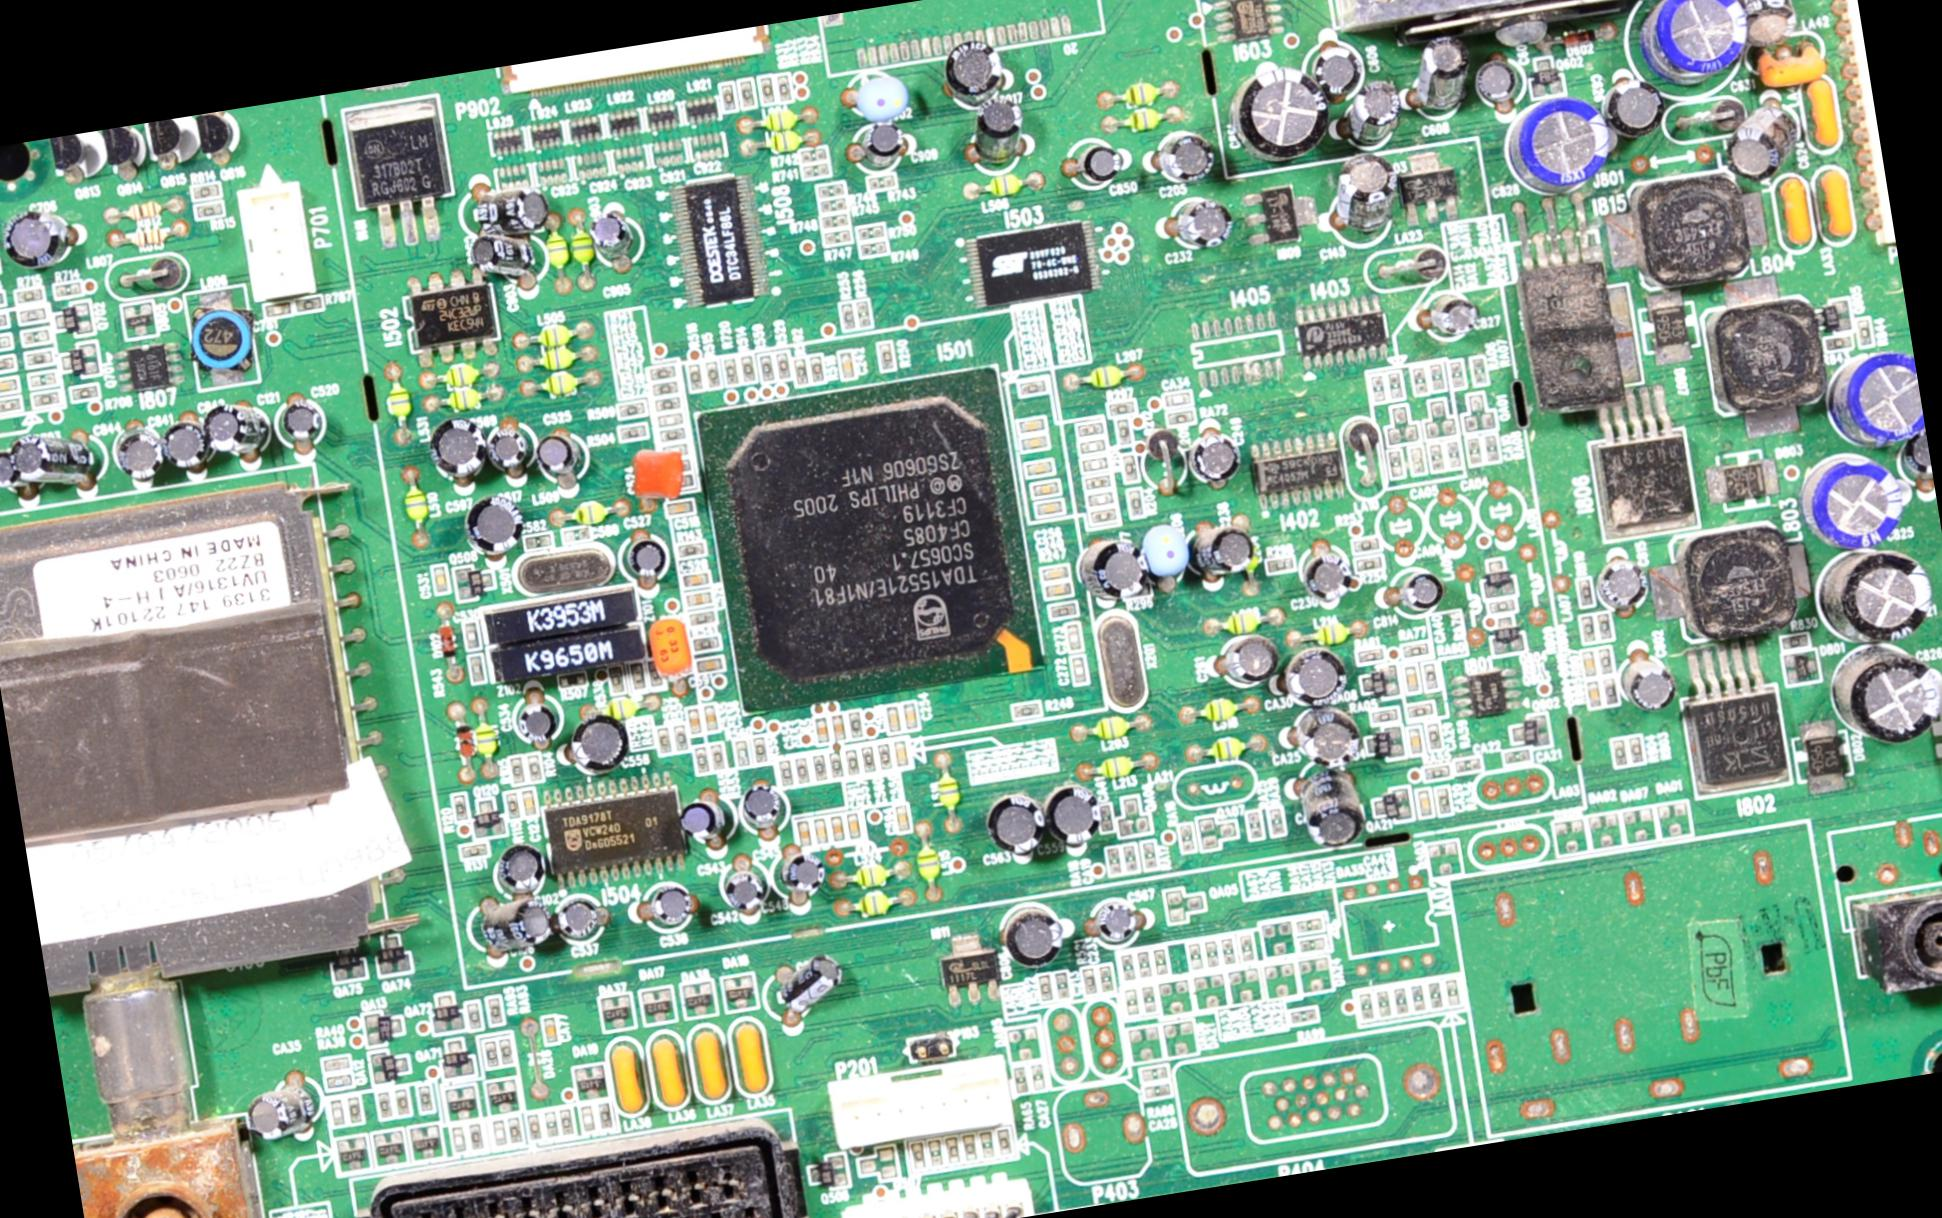Capacitor Jumper: (262, 299, 295, 317), (1017, 434, 1050, 452), (829, 814, 848, 846), (521, 790, 537, 819), (1586, 681, 1602, 710), (812, 818, 829, 848), (1036, 498, 1062, 516), (1026, 459, 1054, 476), (1071, 658, 1087, 686), (892, 738, 908, 768), (1017, 417, 1044, 434), (814, 718, 831, 745), (796, 821, 812, 848), (1033, 483, 1061, 498), (901, 703, 916, 731), (667, 501, 693, 516), (703, 704, 718, 731), (894, 804, 909, 831), (658, 413, 682, 429), (841, 351, 855, 379), (1044, 582, 1072, 596), (1065, 623, 1079, 651), (887, 706, 901, 734), (686, 592, 711, 608), (1580, 650, 1595, 675), (846, 814, 862, 839), (1407, 728, 1423, 754), (682, 574, 709, 588), (831, 716, 845, 742), (434, 567, 448, 592), (1041, 567, 1066, 581), (1403, 668, 1417, 693), (697, 658, 721, 672), (1417, 791, 1431, 815), (0, 377, 18, 396), (689, 709, 702, 734)
Connector: (0, 466, 406, 1141), (352, 1114, 810, 1217), (498, 24, 777, 94), (1830, 0, 1897, 253), (237, 178, 321, 303)
IC: (721, 387, 1024, 683), (1666, 633, 1796, 797), (1579, 377, 1703, 546), (338, 93, 463, 253), (537, 776, 693, 890), (668, 174, 770, 312), (963, 219, 1103, 312), (399, 267, 504, 368), (1247, 429, 1348, 511), (1295, 296, 1393, 366), (111, 345, 188, 397), (1210, 0, 1288, 46)
Resistor Jumper: (1440, 434, 1464, 471), (1403, 442, 1426, 481), (1292, 933, 1332, 954), (1442, 975, 1465, 1010), (1370, 985, 1393, 1017), (993, 1125, 1014, 1162), (960, 1134, 981, 1170), (1114, 950, 1137, 984), (1385, 449, 1407, 483), (415, 1080, 436, 1116), (320, 1052, 352, 1075), (1292, 913, 1325, 936), (577, 1102, 598, 1135), (1478, 431, 1499, 464), (1201, 935, 1221, 970), (1010, 700, 1043, 721), (942, 1134, 960, 1170), (1236, 930, 1256, 964), (906, 1141, 926, 1174), (324, 1072, 355, 1093), (923, 1135, 942, 1170), (1365, 369, 1384, 404), (1120, 985, 1139, 1017), (1027, 1061, 1047, 1093), (876, 340, 895, 372), (1382, 368, 1402, 400), (1428, 362, 1449, 391), (477, 1036, 497, 1066), (1353, 988, 1372, 1019), (1471, 358, 1490, 389), (1423, 442, 1442, 473), (375, 1087, 391, 1123), (525, 1111, 543, 1144), (542, 1109, 560, 1141), (1407, 981, 1426, 1013), (812, 180, 845, 198), (853, 296, 873, 326), (1139, 981, 1156, 1015), (978, 1132, 995, 1166), (344, 1095, 362, 1125), (822, 229, 850, 248), (807, 355, 826, 383), (1125, 490, 1145, 518), (1447, 358, 1464, 390), (327, 1097, 345, 1127), (487, 1117, 505, 1146), (464, 1123, 483, 1152), (189, 182, 219, 201), (24, 349, 53, 368), (773, 349, 791, 379), (487, 996, 505, 1026), (1142, 1083, 1167, 1104), (1186, 940, 1203, 971), (776, 72, 793, 102), (507, 1116, 523, 1146), (20, 330, 51, 347), (616, 401, 647, 418), (504, 790, 521, 821), (1148, 944, 1166, 972), (1052, 971, 1071, 999), (195, 201, 223, 219), (797, 147, 825, 166), (818, 196, 846, 215), (508, 756, 526, 784), (498, 1036, 514, 1068), (1464, 435, 1479, 467), (1391, 984, 1407, 1013), (53, 281, 83, 297), (864, 174, 894, 191), (295, 295, 324, 312), (856, 223, 885, 240), (707, 744, 727, 769), (1626, 738, 1646, 763), (752, 735, 770, 762), (460, 842, 487, 860), (1134, 947, 1149, 978), (450, 1125, 466, 1156), (1412, 363, 1427, 394), (1219, 935, 1236, 963), (738, 80, 755, 108), (1012, 1064, 1029, 1092), (1137, 1066, 1165, 1083), (803, 163, 831, 180), (703, 359, 720, 387), (619, 424, 647, 441), (1116, 418, 1132, 446), (1355, 556, 1384, 573), (452, 794, 469, 822), (1611, 738, 1628, 766), (759, 74, 775, 104), (857, 241, 887, 257), (759, 352, 775, 382), (1121, 455, 1137, 484), (1047, 603, 1076, 619), (1781, 634, 1810, 650), (467, 1002, 483, 1031), (821, 213, 848, 230), (650, 365, 676, 382), (652, 380, 679, 397), (654, 396, 681, 413), (659, 427, 686, 443), (1167, 410, 1194, 427), (1082, 457, 1109, 474), (1085, 473, 1111, 490), (689, 610, 716, 627), (693, 747, 710, 773), (843, 748, 860, 775), (859, 747, 876, 773), (839, 303, 857, 327), (393, 1087, 408, 1116), (721, 81, 737, 109), (594, 1102, 609, 1130), (1426, 979, 1441, 1008), (18, 306, 46, 321), (1823, 335, 1851, 351), (693, 636, 721, 651), (17, 288, 42, 304), (811, 755, 828, 780), (794, 759, 811, 784), (557, 1107, 571, 1137), (739, 354, 754, 383), (688, 362, 702, 391), (1017, 379, 1044, 394), (657, 727, 672, 754), (672, 725, 688, 752), (828, 751, 843, 777), (777, 759, 793, 786), (1078, 421, 1101, 438), (1097, 965, 1111, 993), (724, 356, 738, 384), (794, 358, 808, 386), (528, 754, 542, 782), (1856, 320, 1872, 345), (849, 713, 864, 738), (1038, 975, 1052, 1002), (34, 390, 60, 404), (1109, 401, 1135, 415), (1354, 537, 1378, 553), (72, 386, 97, 400), (735, 741, 749, 766), (0, 399, 22, 414), (1080, 441, 1104, 455), (1090, 509, 1114, 523), (877, 745, 891, 769), (1083, 968, 1096, 993), (29, 373, 53, 386), (681, 543, 702, 557), (0, 356, 14, 375), (1090, 494, 1113, 505), (0, 335, 10, 349), (0, 314, 8, 328)
Transistor: (1238, 181, 1320, 251), (1395, 152, 1465, 232), (425, 988, 467, 1038), (434, 1036, 478, 1082), (51, 296, 97, 340), (324, 937, 368, 982), (368, 1047, 414, 1089), (805, 1153, 852, 1196), (372, 930, 414, 977), (361, 1005, 406, 1047), (439, 1082, 480, 1123), (720, 974, 759, 1015), (1527, 58, 1566, 97), (60, 341, 100, 380), (483, 1075, 521, 1116), (682, 979, 718, 1020), (598, 993, 636, 1031), (638, 985, 675, 1024), (1813, 299, 1849, 333), (574, 1062, 606, 1099)
